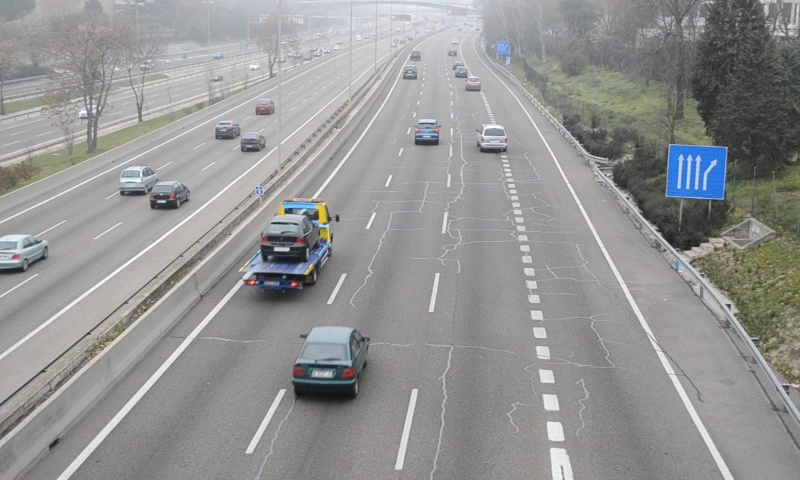car: (291, 326, 366, 389), (477, 124, 508, 153), (413, 118, 440, 144), (464, 74, 482, 90), (402, 65, 417, 78)
small-truck: (237, 198, 333, 289)
